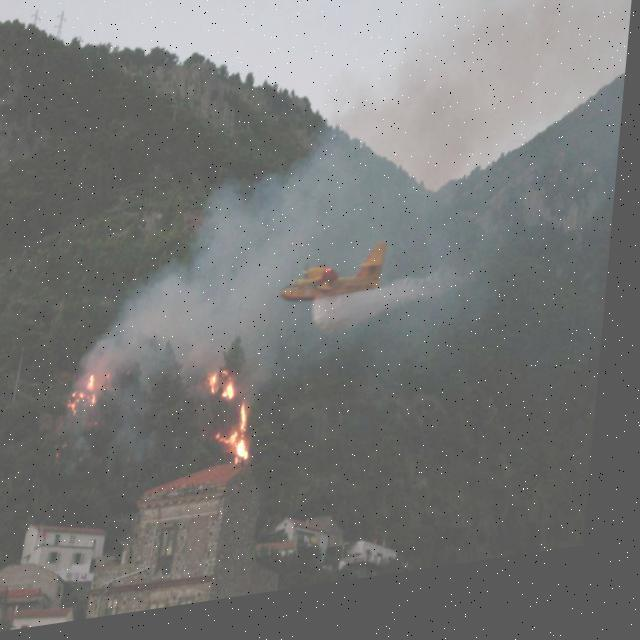Fire: (219, 410, 272, 480), (59, 371, 118, 426), (200, 371, 258, 416)
